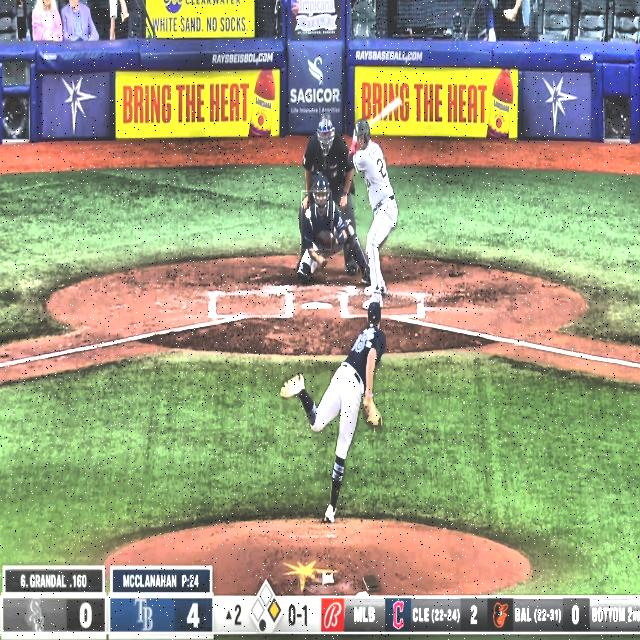baseball: (305, 209, 312, 220)
